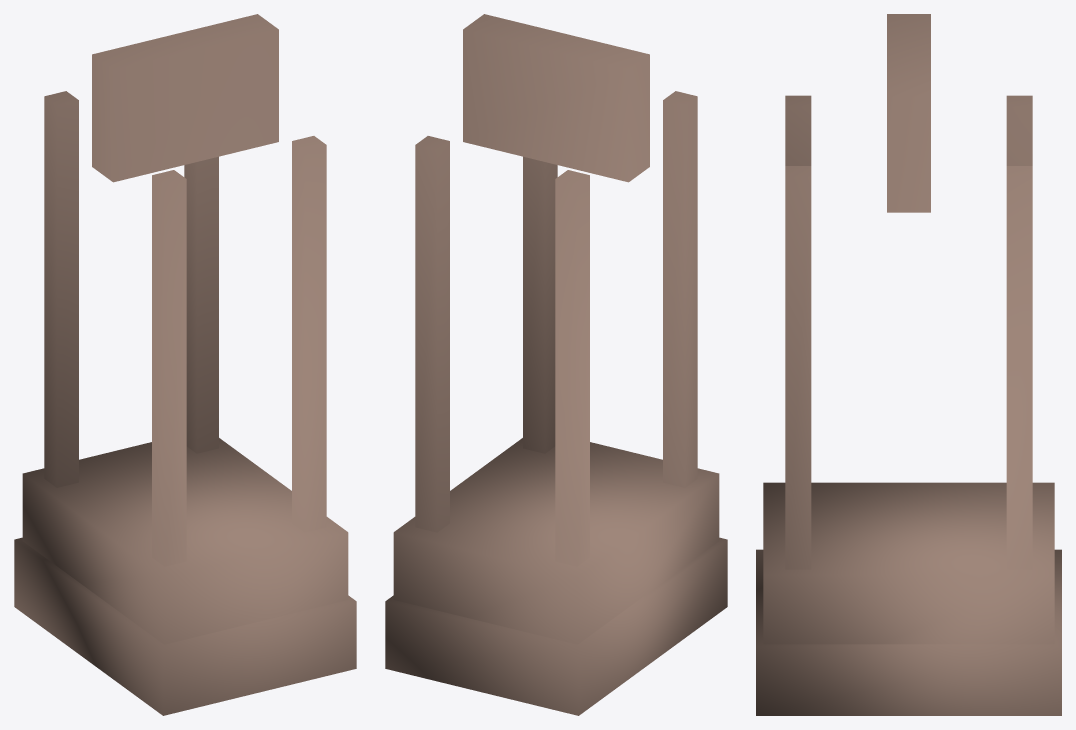
The model's file is sanctuary_of_freya.obj.
3 renders of one model, left to right at view 1: azimuth 30°, elevation 25°; view 2: azimuth 150°, elevation 25°; view 3: azimuth 270°, elevation 25°, orthographic. The views are drawn at different scales.
Visible parts, largest first — view 1: building; view 2: building; view 3: building.
Part boxes in pixels (x1,y1,x2,y2): building: (14, 14, 356, 715); building: (385, 14, 727, 715); building: (756, 14, 1061, 715).
Bounding box in the file's own units: 3.15 × 9.27 × 4.2.
